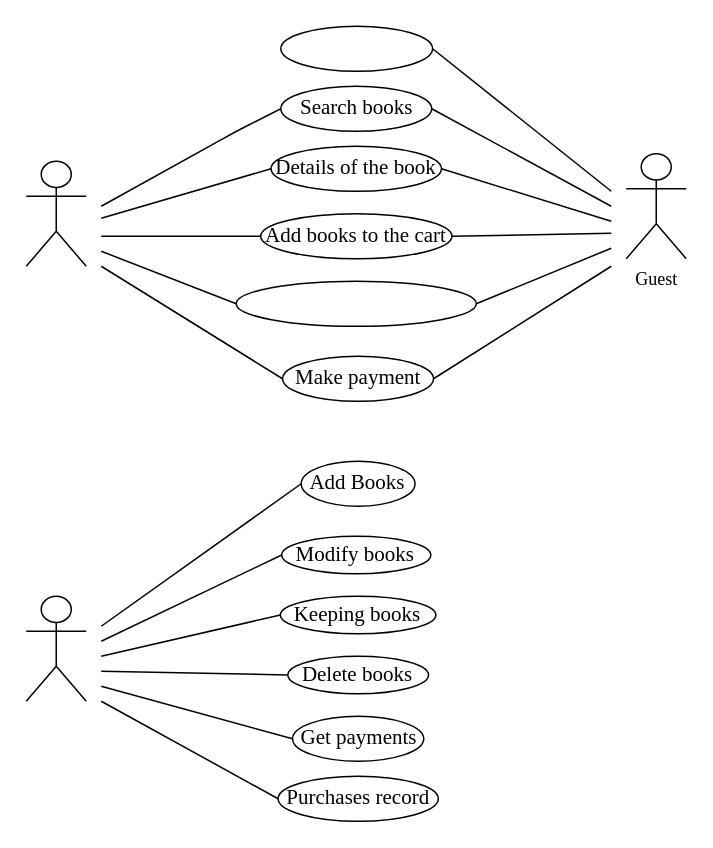
Some shapes in this 713 by 848 pixel diagram are drawn without their labels. Each missing label, with the centre of its shape:
Admin: the point at 55,648
Delete books from the cart: the point at 355,303
Get registered: the point at 356,48
User: the point at 55,213
